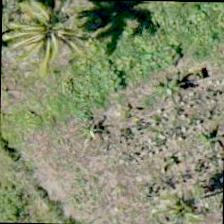Kelapa_Sawit: (7, 0, 99, 74), (136, 163, 223, 223)
